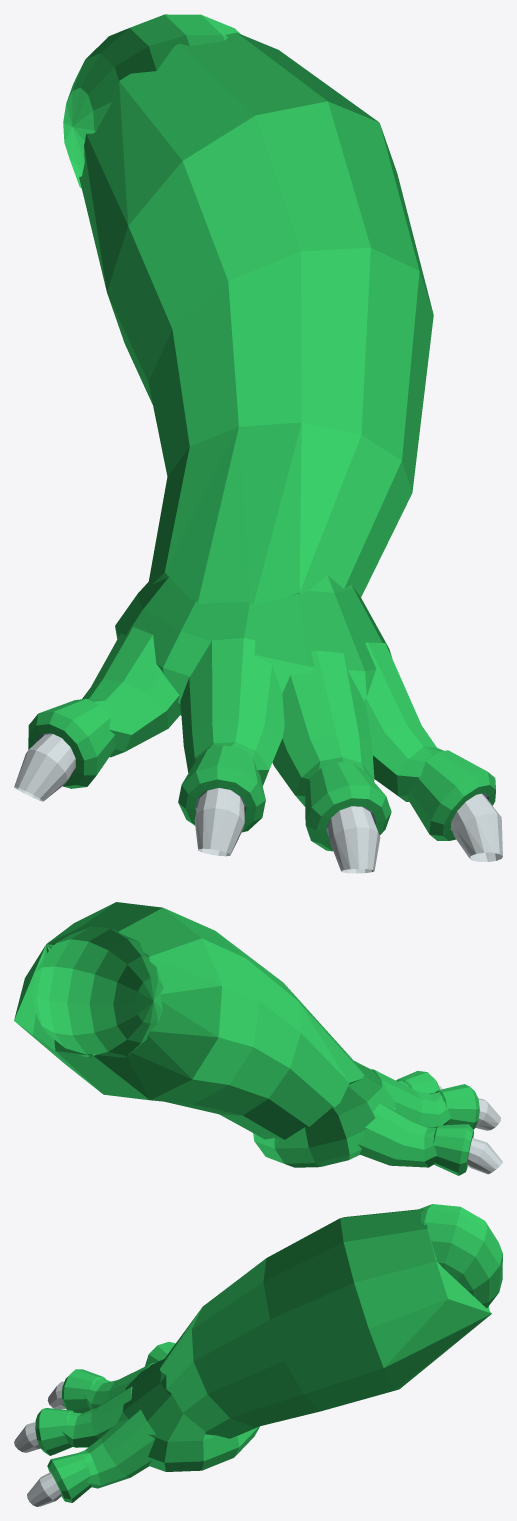
Rendered from GreenLeg.fbx.
3 renders of one model, top to bottom at view 1: azimuth 30°, elevation 25°; view 2: azimuth 150°, elevation 25°; view 3: azimuth 270°, elevation 25°, orthographic. The views are drawn at different scales.
Parts seen in each view (by area): view 1: group1236733959, group143748101, group1335273033, group6413938, group1239300912, group856631508, group669527044; view 2: group1236733959, group669527044, group1239300912, group1335273033, group143748101, group6413938; view 3: group1236733959, group1335273033, group856631508, group669527044, group6413938, group143748101, group1239300912.
Part boxes in pixels (x1,y1,x2,y2): group1236733959: (79, 32, 433, 605); group143748101: (178, 637, 284, 856); group1335273033: (115, 575, 391, 715); group6413938: (272, 650, 391, 873); group1239300912: (14, 627, 180, 801); group856631508: (364, 642, 502, 861); group669527044: (63, 14, 240, 188); group1236733959: (14, 902, 364, 1139); group669527044: (32, 926, 163, 1057); group1239300912: (358, 1103, 502, 1175); group1335273033: (253, 1061, 395, 1167); group143748101: (371, 1069, 500, 1130); group6413938: (396, 1071, 442, 1093); group1236733959: (160, 1209, 491, 1438); group1335273033: (117, 1359, 259, 1471); group856631508: (27, 1409, 155, 1506); group669527044: (418, 1204, 502, 1307); group6413938: (14, 1386, 132, 1455); group143748101: (47, 1362, 156, 1413); group1239300912: (145, 1341, 175, 1366).
Size of the model in its own units: 40.14 by 37.57 by 53.71.
